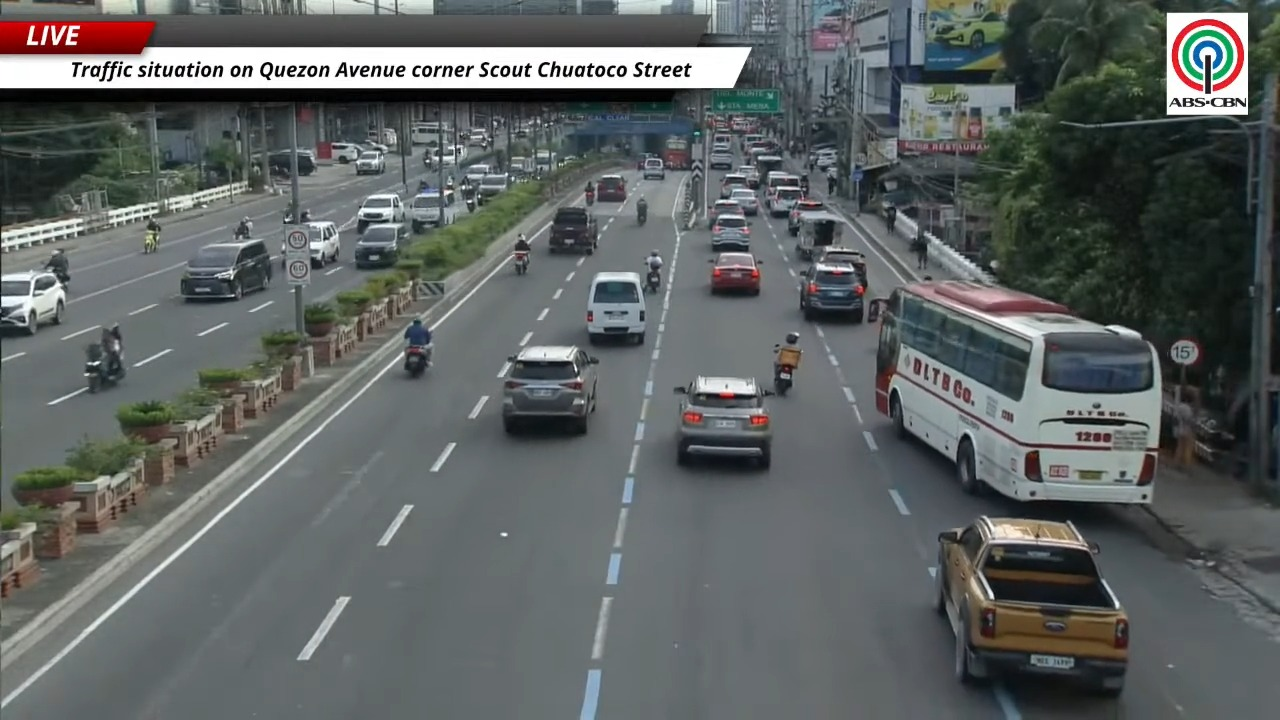bus: (875, 281, 1161, 503), (410, 121, 450, 145)
car: (675, 376, 771, 468), (502, 345, 598, 433), (180, 239, 272, 300), (0, 271, 66, 334), (800, 263, 865, 322), (930, 12, 1005, 50), (353, 224, 410, 268), (709, 252, 760, 295), (814, 246, 867, 286), (409, 188, 456, 232), (357, 193, 404, 232), (305, 221, 340, 267), (787, 199, 825, 236), (711, 214, 749, 251), (766, 185, 802, 217), (708, 199, 744, 227), (477, 173, 509, 203), (728, 187, 759, 215), (596, 174, 626, 201), (330, 142, 363, 163), (720, 173, 747, 198), (356, 151, 385, 174), (463, 163, 490, 187), (268, 151, 294, 174), (808, 142, 836, 163), (815, 149, 839, 171), (708, 150, 735, 169), (737, 166, 759, 189), (642, 158, 664, 179), (466, 130, 489, 149), (636, 153, 661, 170), (362, 139, 389, 153), (741, 134, 763, 151), (711, 142, 731, 152)
motorcycle: (84, 344, 125, 393), (404, 345, 429, 377), (774, 364, 794, 396), (513, 250, 529, 275), (645, 268, 660, 293), (52, 270, 70, 290), (144, 230, 157, 253), (637, 209, 646, 226), (466, 197, 475, 212), (585, 192, 594, 205)
truck: (934, 516, 1129, 696), (548, 206, 599, 255), (795, 209, 843, 261), (661, 135, 691, 170)
